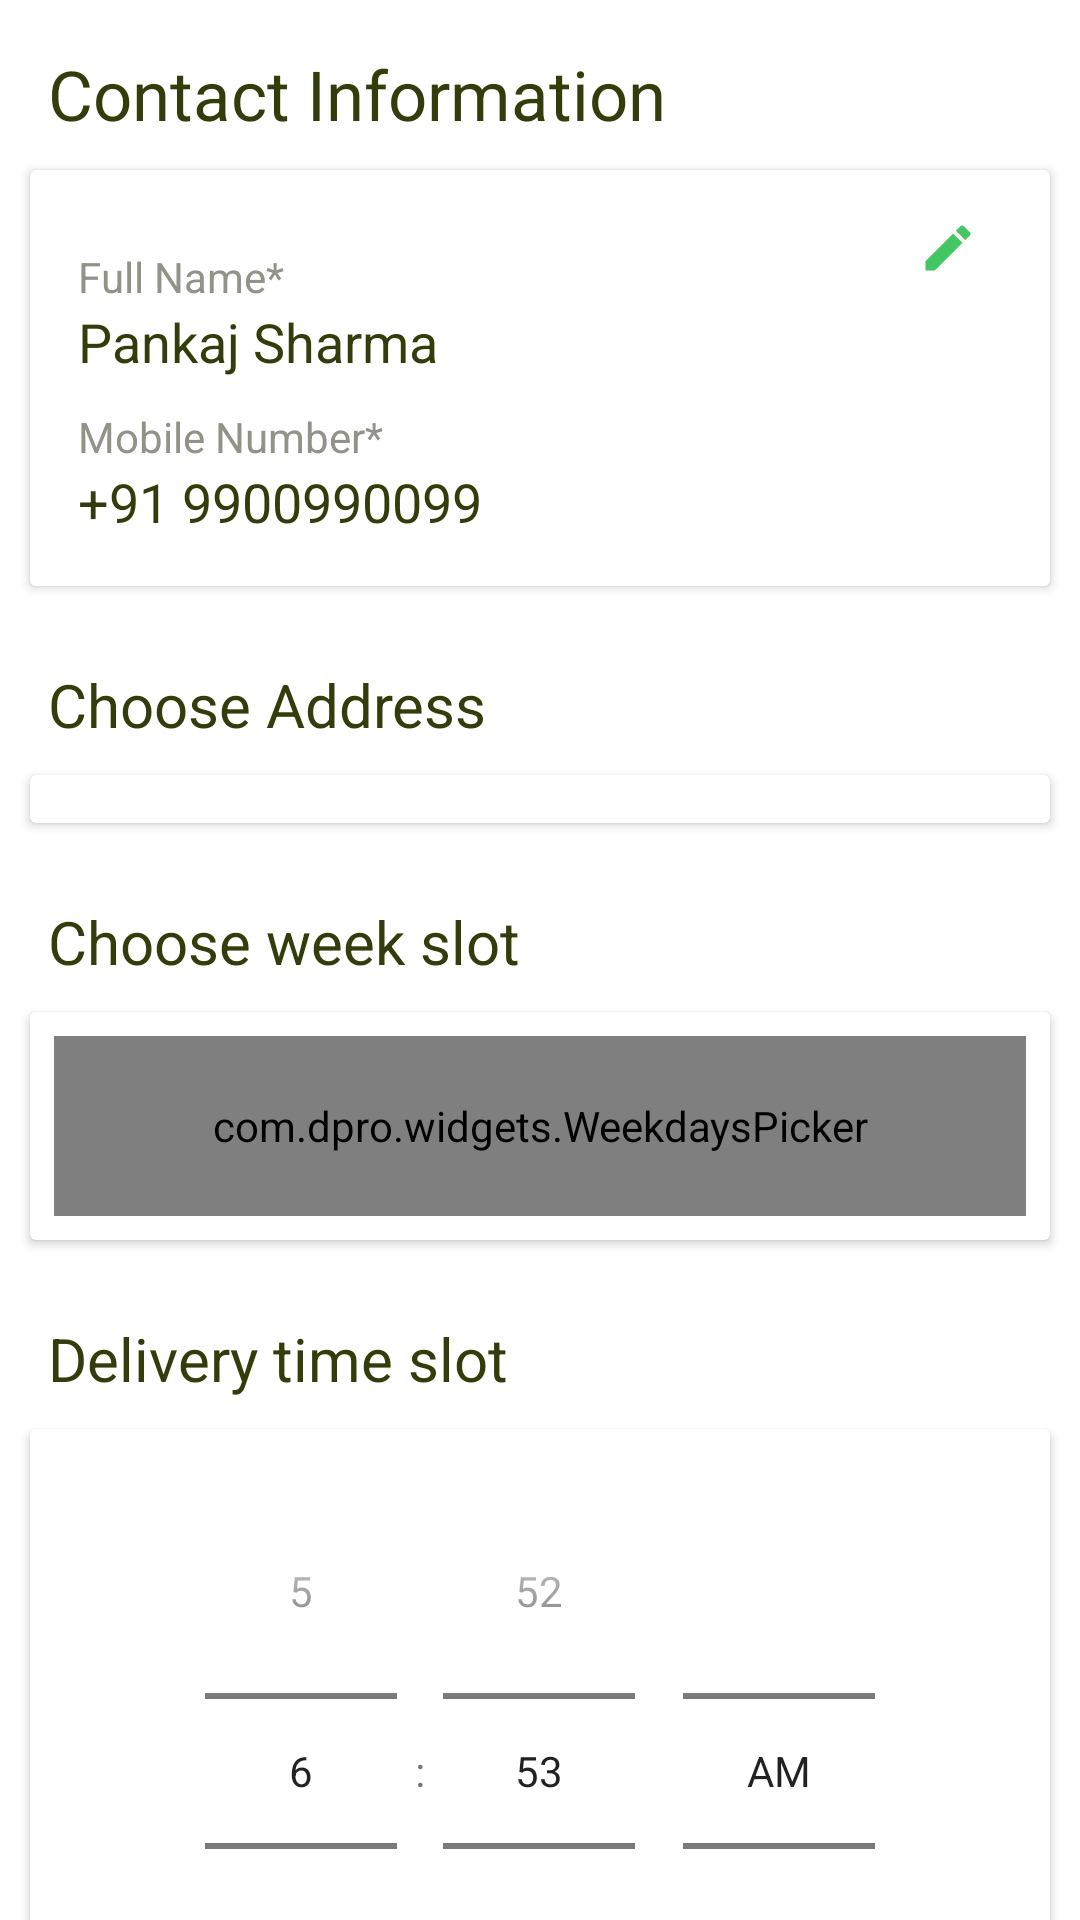

Screen size 1080 × 1920. Icon name, then its box in pixels as detection(x1, y1, x2, y2):
edit: detection(925, 225, 971, 271)
